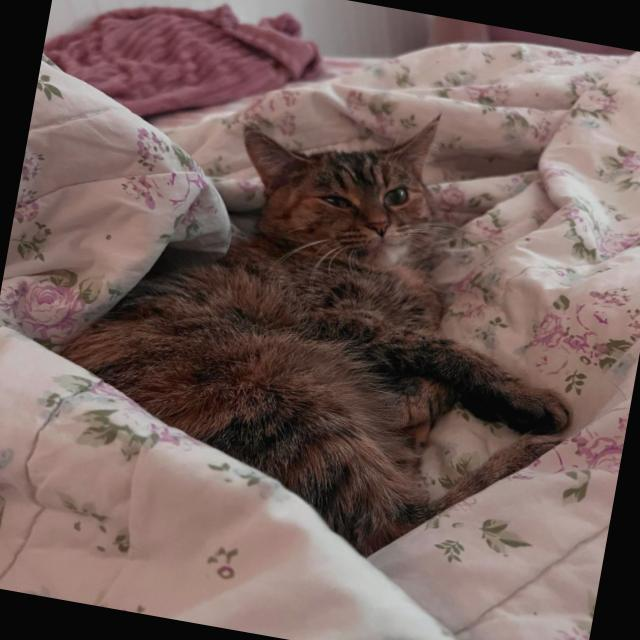manx_cat: (210, 77, 476, 296)
